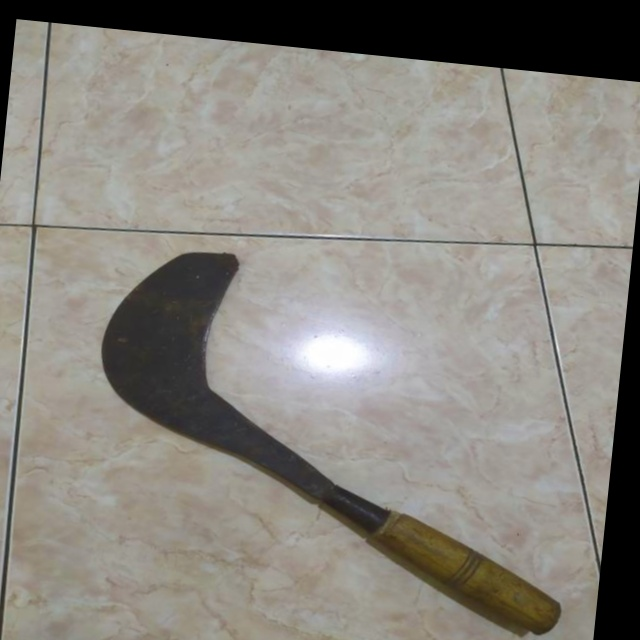Sharp-Object: (70, 220, 602, 640)
